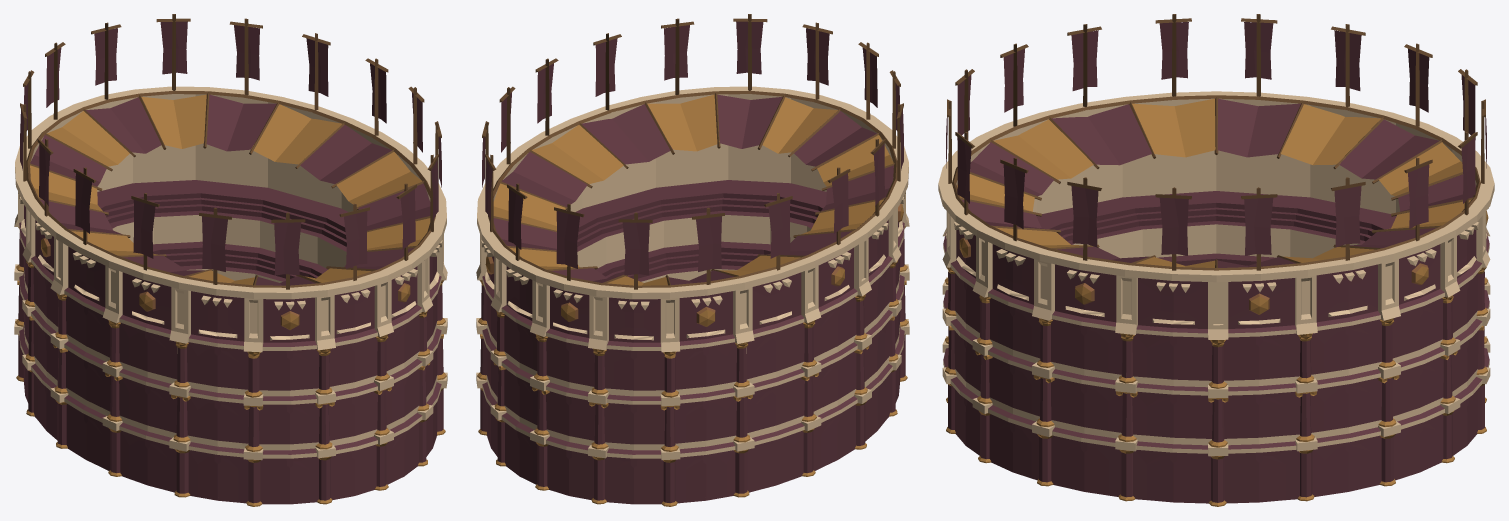
The model's file is SM_Coloseum_Empire.fbx.
The picture shows the model from 3 angles, left to right: view 1: azimuth 30°, elevation 25°; view 2: azimuth 150°, elevation 25°; view 3: azimuth 270°, elevation 25°; orthographic projection. The views are drawn at different scales.
Parts seen in each view (by area): view 1: SM_Coloseum_Empire; view 2: SM_Coloseum_Empire; view 3: SM_Coloseum_Empire.
Part boxes in pixels (x1,y1,x2,y2): SM_Coloseum_Empire: (14, 14, 447, 506); SM_Coloseum_Empire: (476, 14, 909, 506); SM_Coloseum_Empire: (938, 14, 1494, 506).
Bounding box in the file's own units: 40.63 × 32.36 × 51.85.
